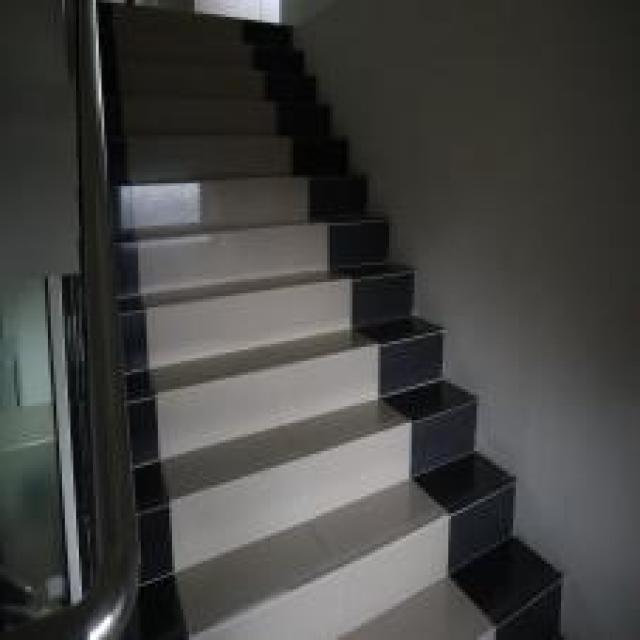upstair: (131, 123, 458, 526)
